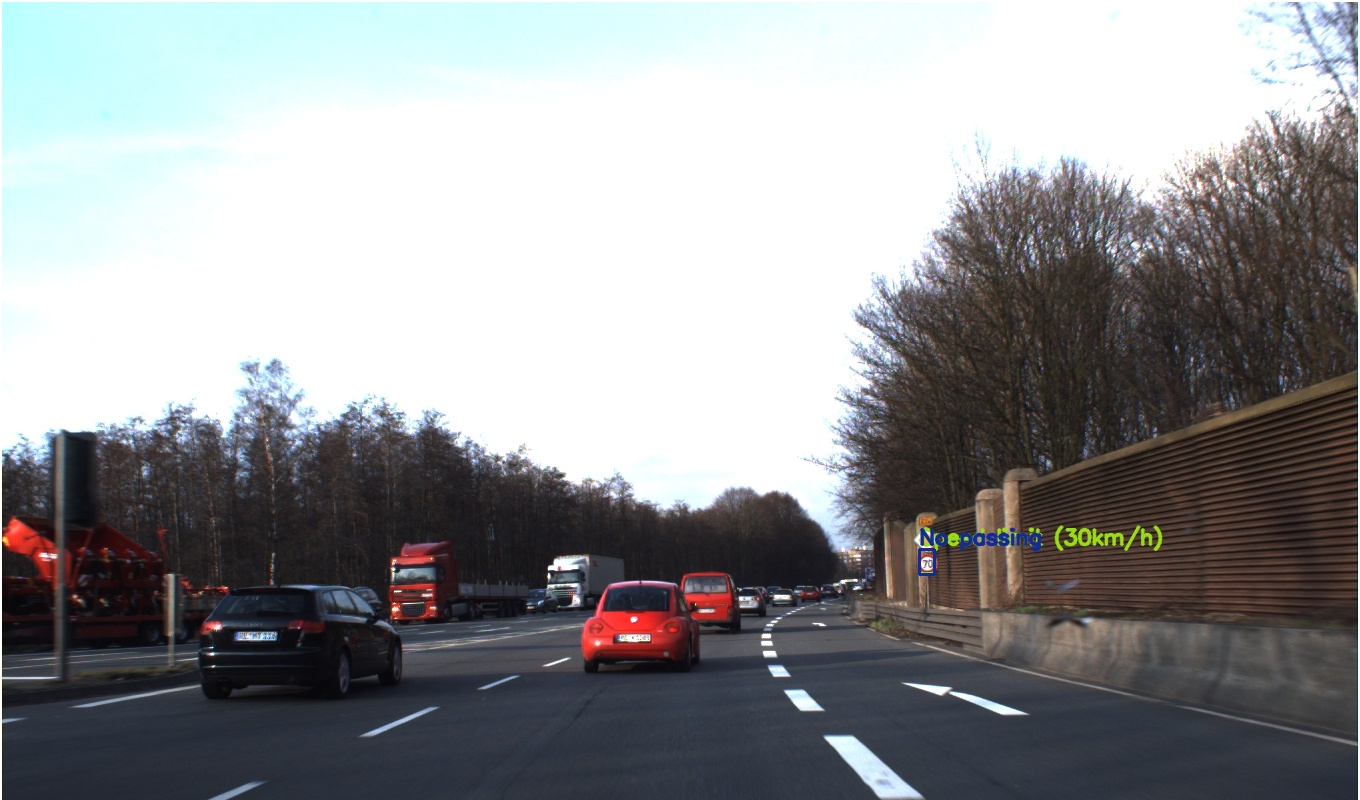Priority road: (1193, 358, 1269, 436)
